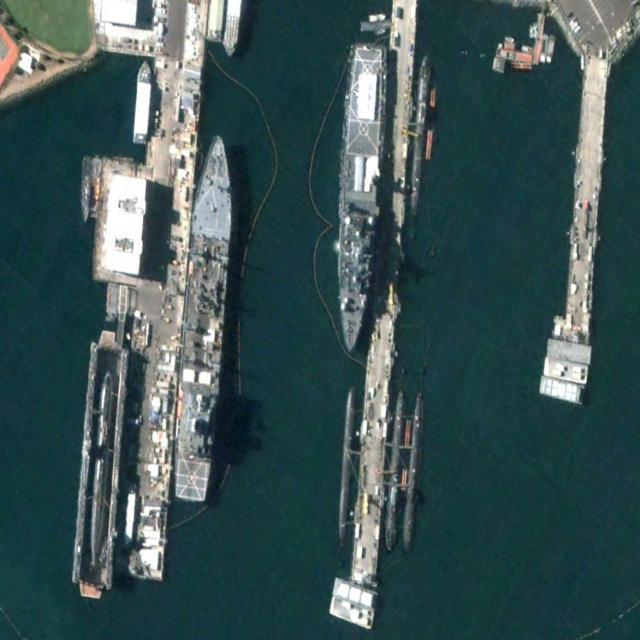Commander: (172, 129, 238, 502)
Landing: (329, 40, 391, 355)
Other Ship: (132, 57, 153, 144)
Submarine: (87, 368, 116, 569), (398, 389, 430, 560), (407, 52, 434, 218), (382, 385, 408, 553), (336, 383, 359, 547)
